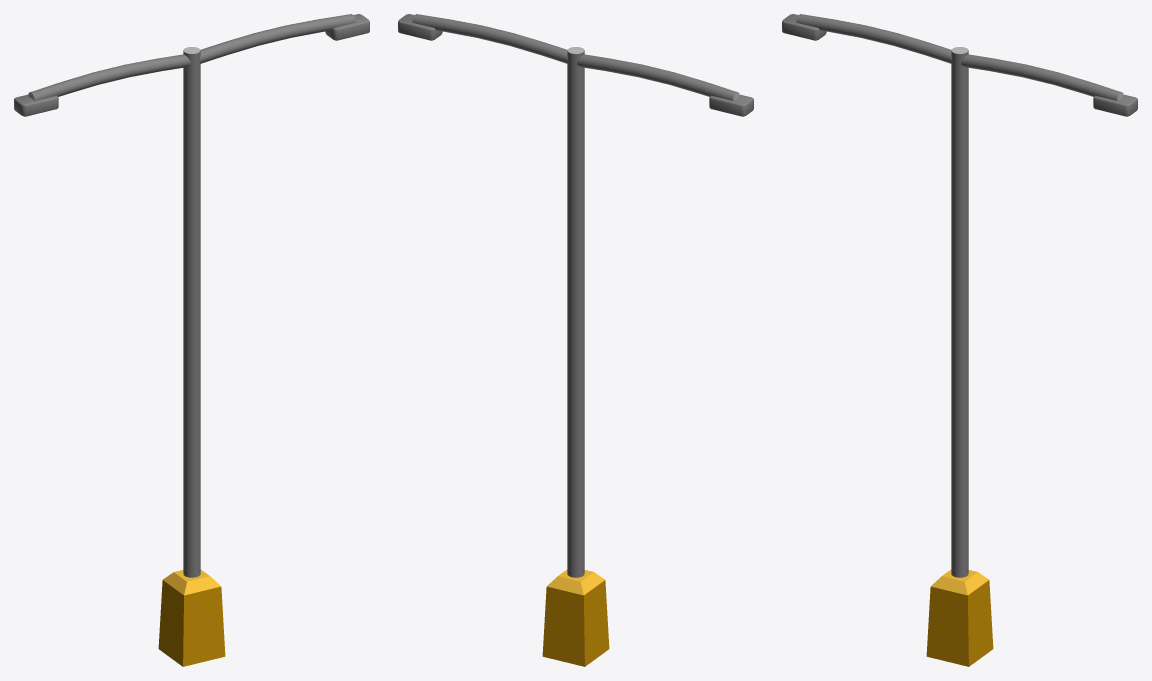
File: LamppostFBXASC046002.fbx
The picture shows the model from 3 angles, left to right: view 1: azimuth 30°, elevation 25°; view 2: azimuth 150°, elevation 25°; view 3: azimuth 330°, elevation 25°; orthographic projection.
Parts seen in each view (by area): view 1: Lamppost.002; view 2: Lamppost.002; view 3: Lamppost.002.
Part boxes in pixels (x1,y1,x2,y2): Lamppost.002: [14, 14, 369, 666]; Lamppost.002: [398, 14, 753, 666]; Lamppost.002: [782, 14, 1137, 666].
Size of the model in its own units: 326 by 541 by 39.75.
2 materials, 2 textured.
